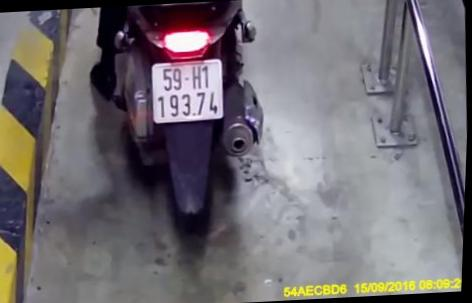LP: (148, 55, 229, 125)
